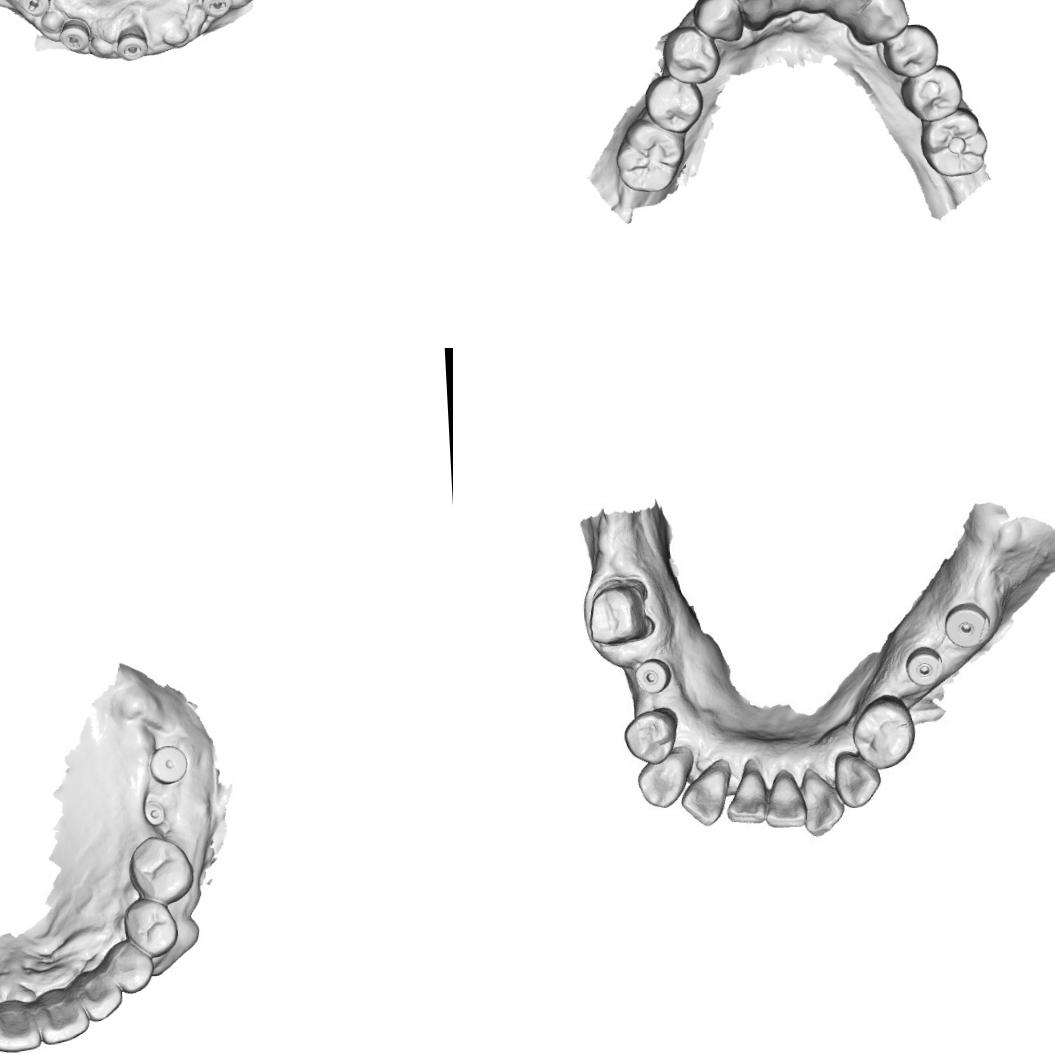canine: (632, 750, 696, 814), (100, 934, 156, 997), (848, 0, 912, 47), (831, 750, 880, 808), (692, 0, 744, 45)
crown: (584, 574, 660, 650)
implant: (944, 604, 990, 649), (145, 742, 189, 789), (904, 645, 946, 688), (634, 654, 670, 697), (138, 799, 170, 827)
implant_minus: (111, 21, 152, 64), (57, 13, 94, 52), (15, 0, 53, 23), (197, 0, 235, 18)
incisor: (760, 770, 810, 830), (680, 768, 730, 828), (37, 992, 90, 1048), (721, 766, 766, 830), (802, 771, 846, 836), (75, 969, 124, 1023), (0, 1005, 43, 1055), (731, 0, 772, 31), (830, 0, 876, 19), (763, 0, 807, 15), (800, 0, 841, 14)
molar: (611, 115, 688, 196), (915, 106, 989, 180)
premolar: (124, 830, 198, 911), (852, 690, 916, 772), (641, 70, 708, 136), (658, 21, 724, 86), (119, 894, 181, 960), (898, 64, 965, 124), (877, 20, 942, 80), (620, 711, 671, 766)
